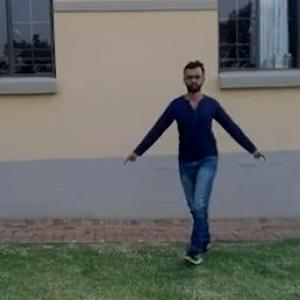land: (144, 69, 255, 237)
